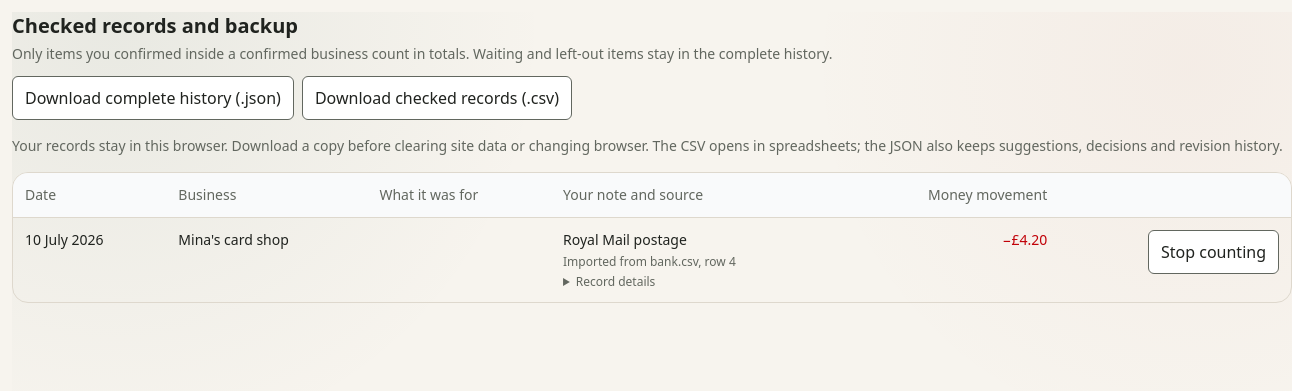
Test case: Ledger › focuses a stable success message after a record stops counting
Click the button named "Stop counting Royal Mail postage from 10 July 2026; keep it in history" at (1214, 252), box x1=1148 y1=230 x2=1279 y2=274
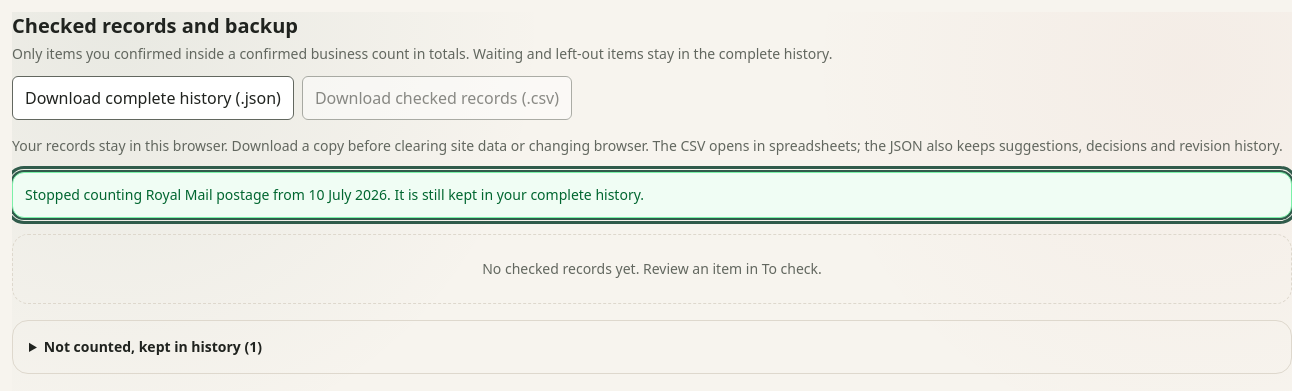
Check: the message shows "Stopped counting Royal Mail postage from 10 July 2026. It is still kept in your complete history.", box x1=25 y1=185 x2=644 y2=204
Check: the button "Stop counting" is gone
